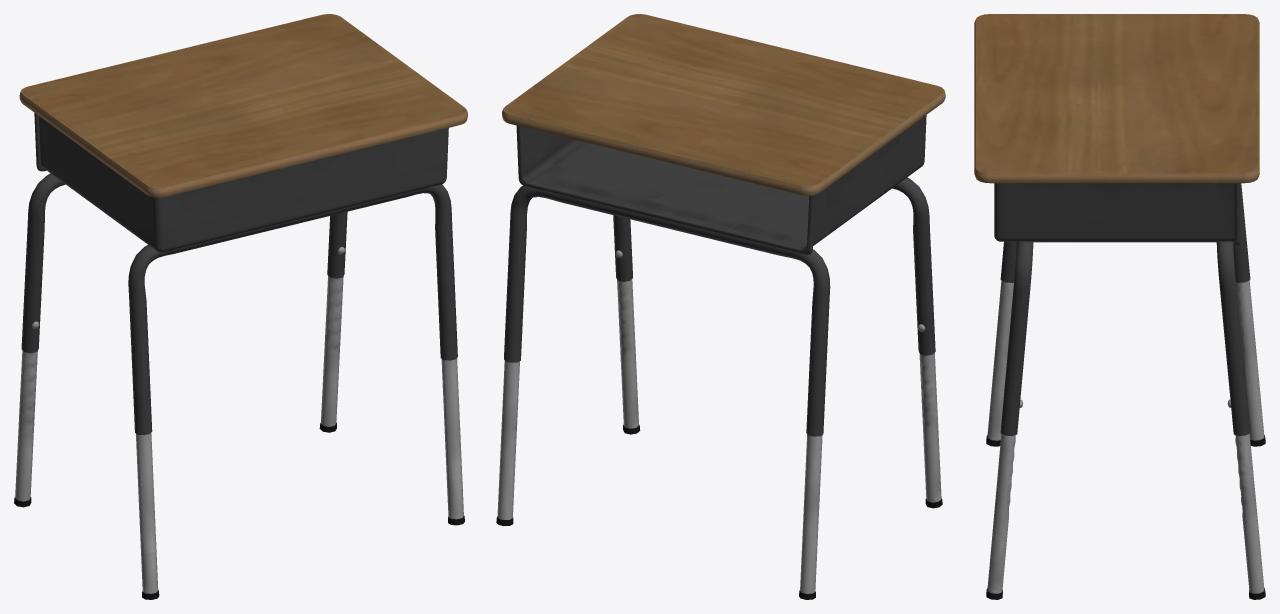
The model's file is SchoolDesk_01.glb.
3 views of the same model, side by side, from view 1: azimuth 30°, elevation 25°; view 2: azimuth 150°, elevation 25°; view 3: azimuth 270°, elevation 25° (orthographic). The views are drawn at different scales.
Visible parts, largest first — view 1: SchoolDesk_01; view 2: SchoolDesk_01; view 3: SchoolDesk_01.
Part boxes in pixels (<box>): SchoolDesk_01: <box>14,14,467,599</box>; SchoolDesk_01: <box>496,14,945,599</box>; SchoolDesk_01: <box>974,14,1265,599</box>.
Bounding box in the file's own units: 0.7117 × 0.8826 × 0.546.
1 material, 1 textured.
